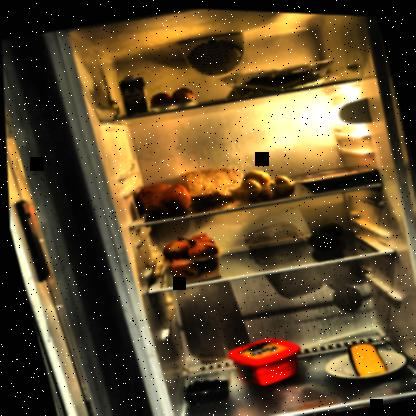blueberries: (170, 362, 236, 409)
butter: (220, 326, 306, 393)
cheese: (341, 334, 387, 376)
chicken: (288, 153, 378, 194)
eggs: (145, 80, 197, 112)
green_beans: (225, 57, 328, 101)
heavy_cream: (116, 70, 150, 117)
lime: (300, 215, 350, 252)
onion: (155, 225, 227, 287)
potato: (224, 159, 297, 205)
sweet_potato: (126, 173, 195, 222)
